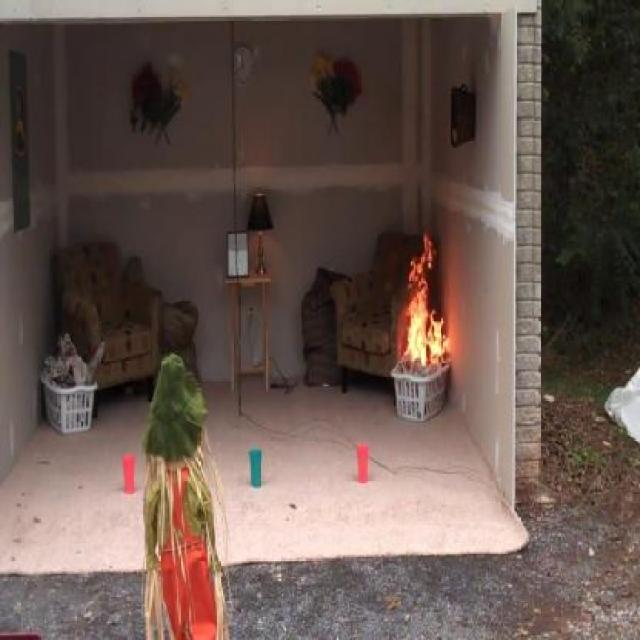fire: (387, 244, 462, 398)
